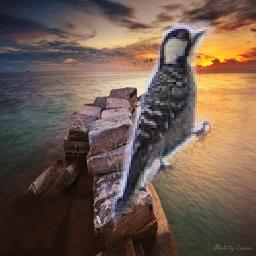Woodpecker: (105, 15, 218, 226)
